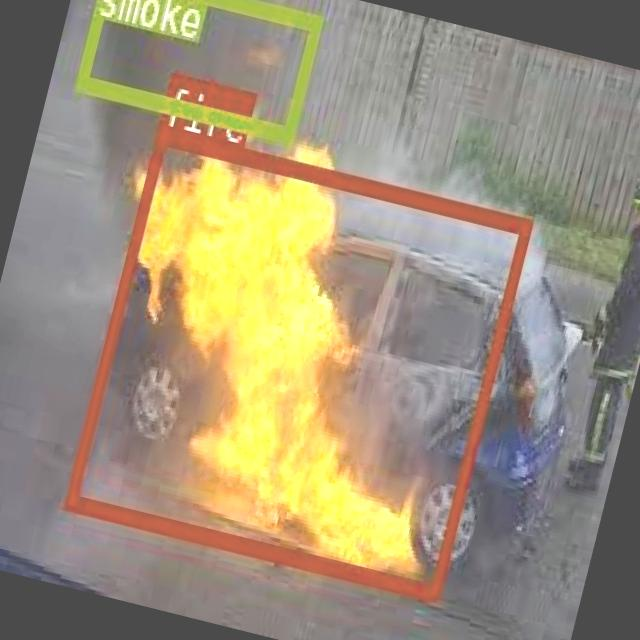fire: (62, 124, 532, 598)
smoke: (74, 0, 321, 139)
